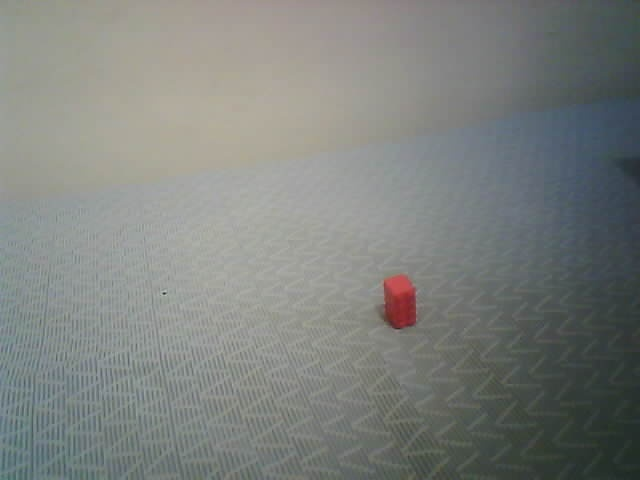lego: (383, 274, 417, 329)
